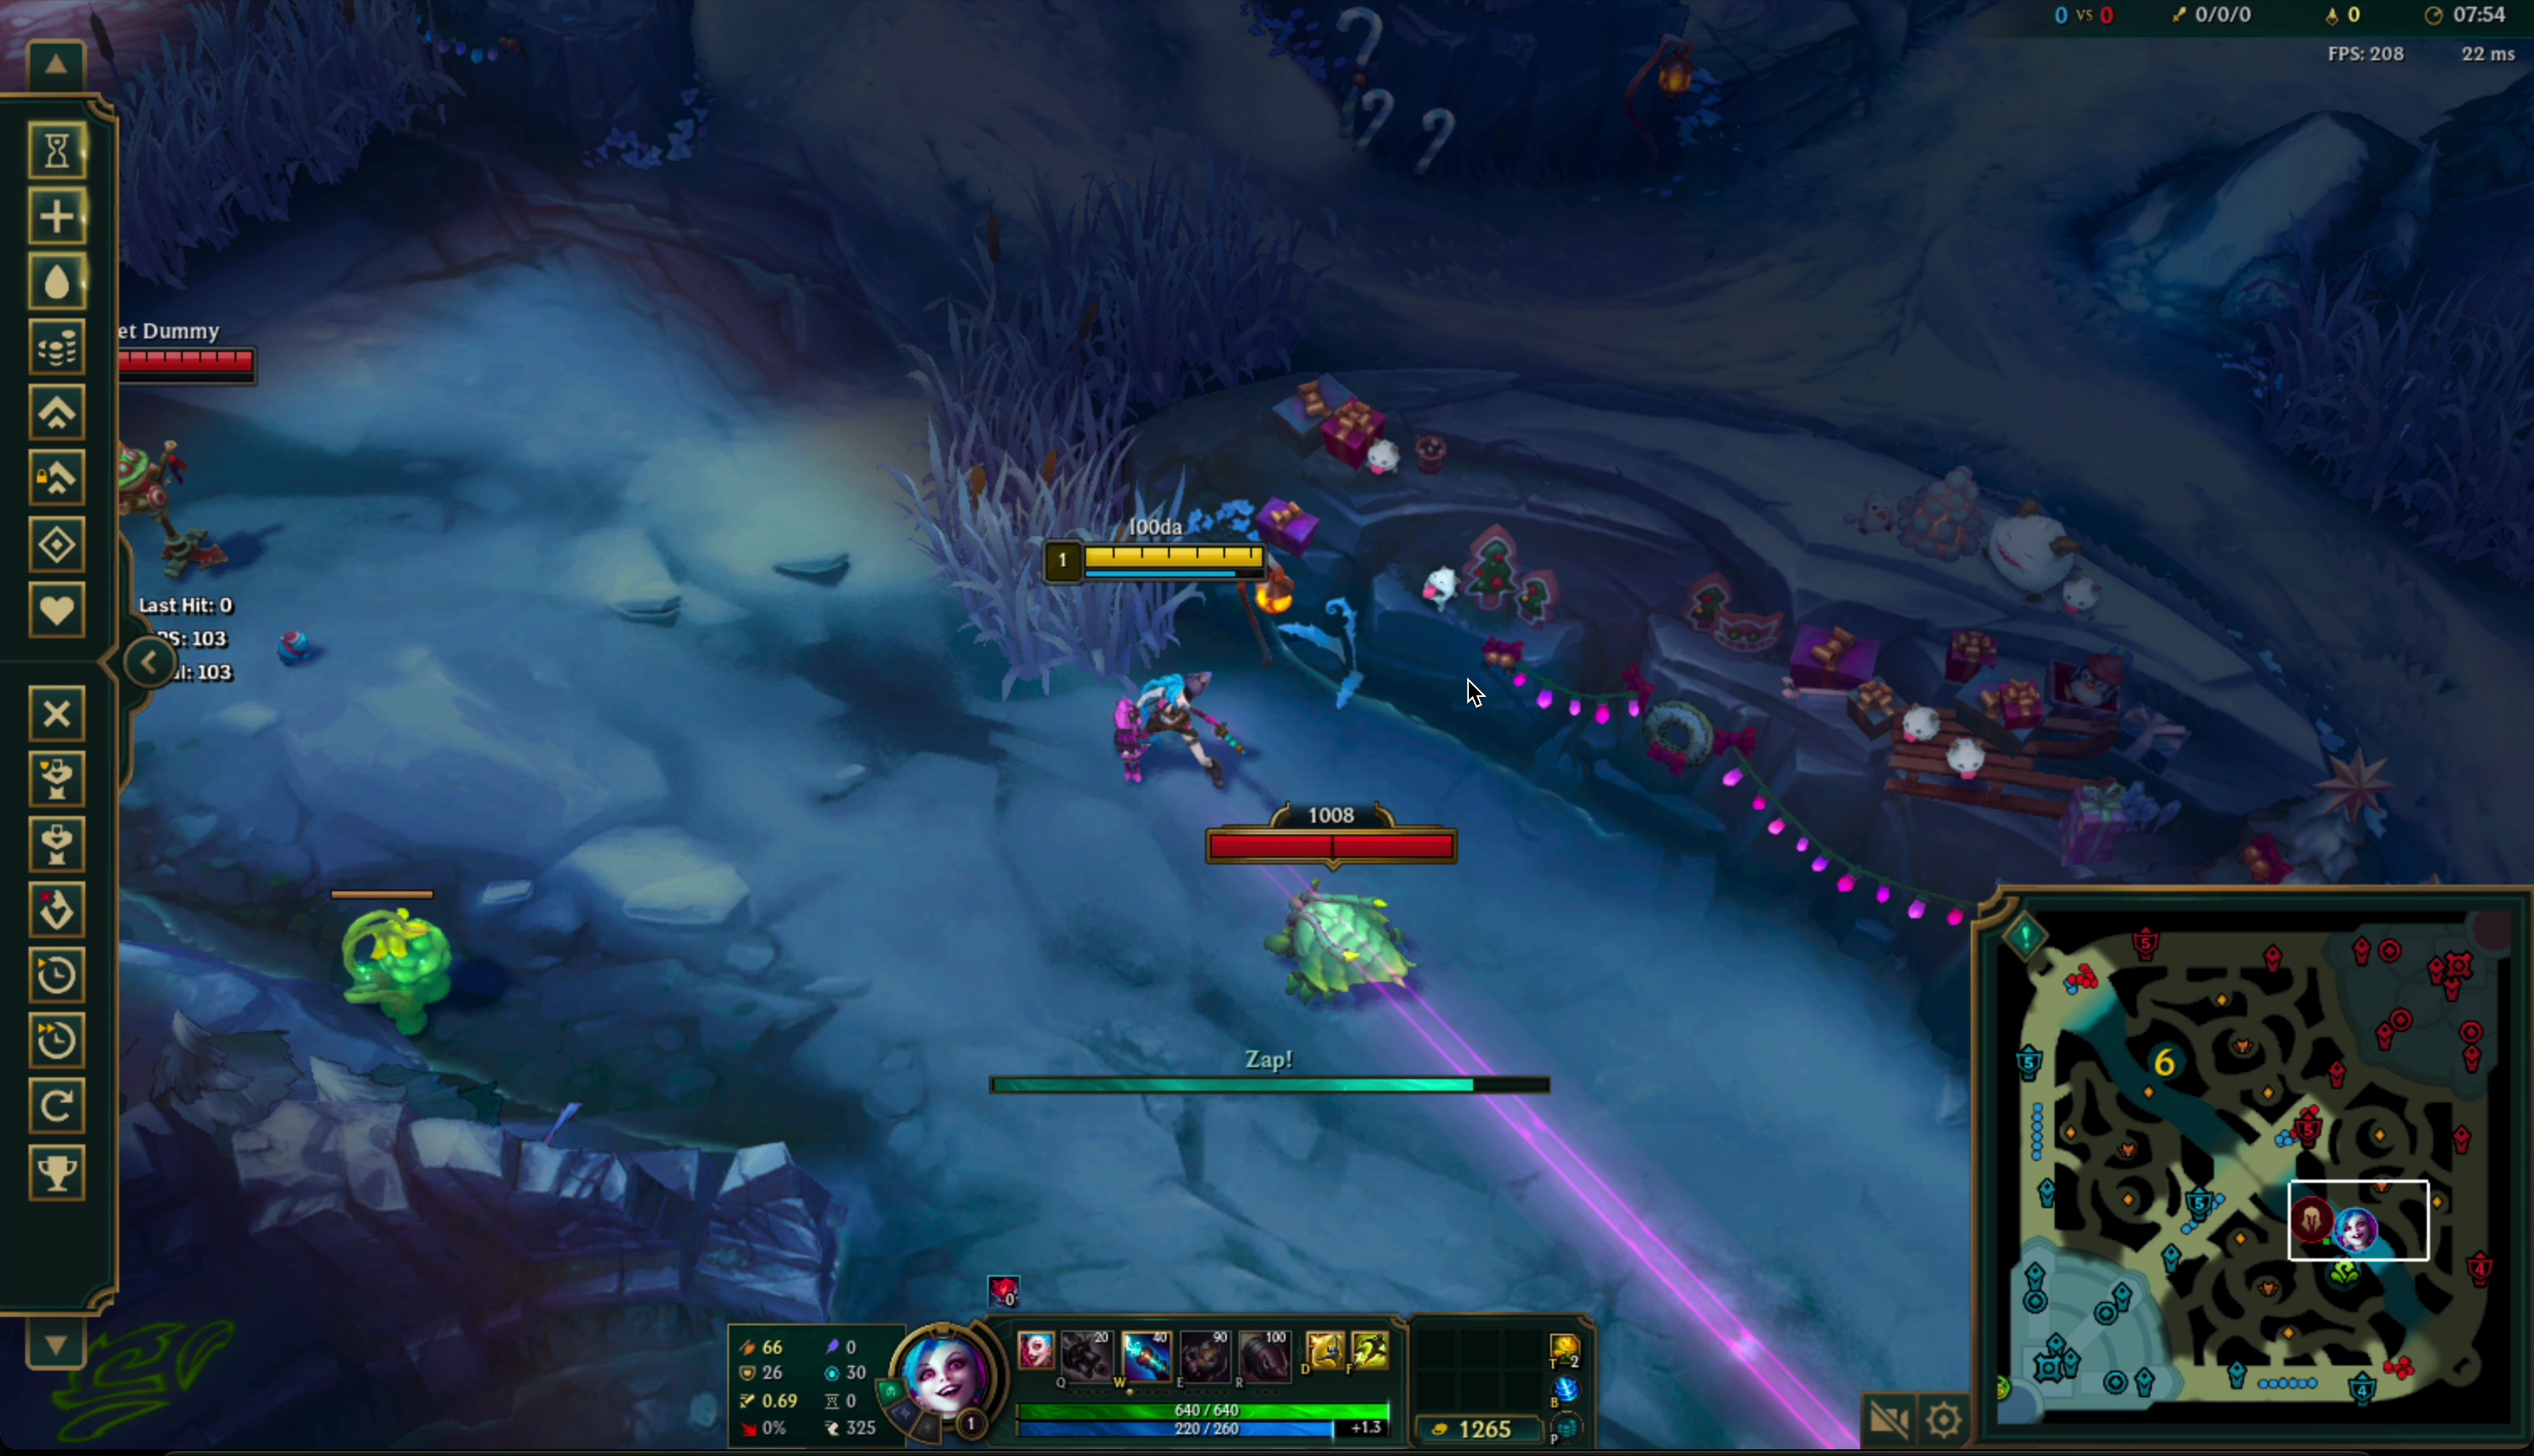JINX_W_PROJECTILE: (975, 515, 1897, 1449)
